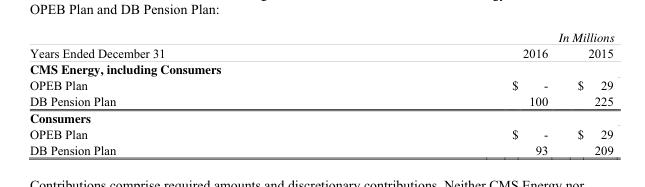table: (28, 28, 613, 156)
table column: (28, 28, 337, 156), (337, 28, 552, 156), (552, 28, 613, 156)
table column header: (28, 28, 613, 59)
table projected row header: (28, 59, 613, 77), (28, 108, 613, 126)
table row: (28, 28, 613, 59), (28, 59, 613, 77), (28, 108, 613, 126), (28, 92, 613, 108), (28, 77, 613, 92), (28, 126, 613, 141), (28, 141, 613, 156)
